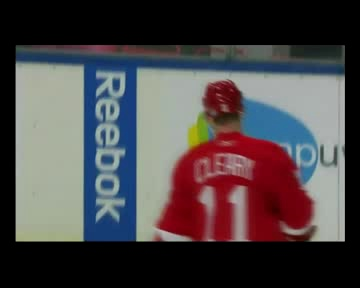normal: (138, 70, 310, 236)
